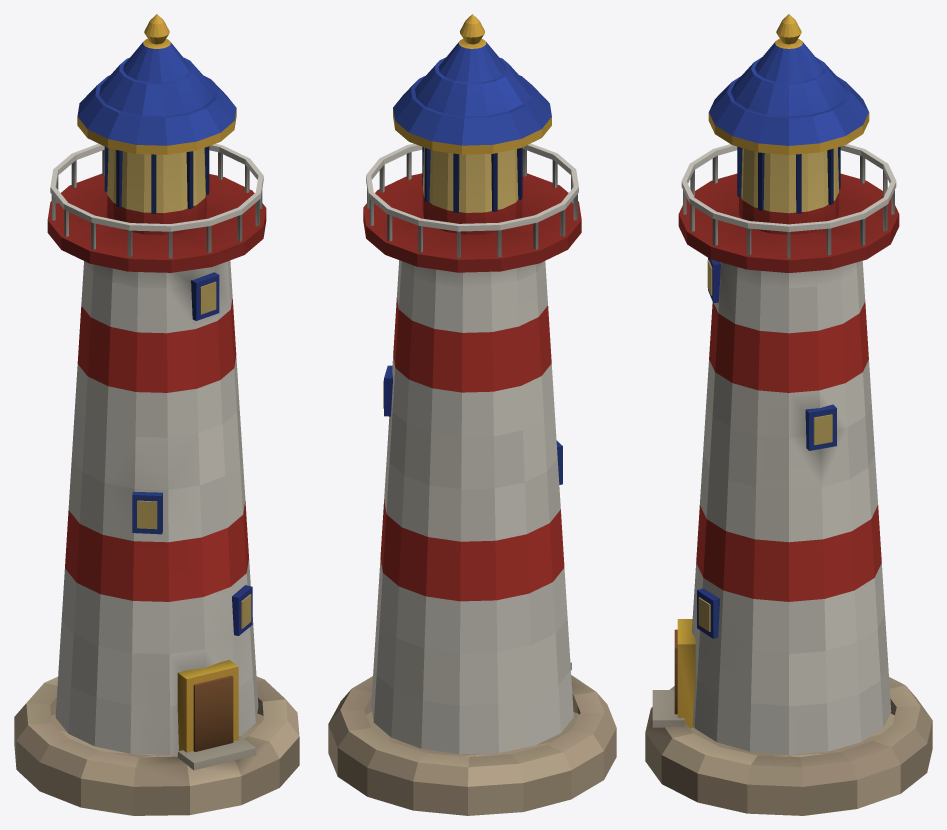
Rendered from Lighthouse.fbx.
3 views of the same model, side by side, from view 1: azimuth 30°, elevation 25°; view 2: azimuth 150°, elevation 25°; view 3: azimuth 270°, elevation 25° (orthographic).
Visible parts, largest first — view 1: Lighthouse; view 2: Lighthouse; view 3: Lighthouse.
Part boxes in pixels (bbox=[...]): Lighthouse: bbox=[14, 14, 299, 815]; Lighthouse: bbox=[328, 14, 616, 815]; Lighthouse: bbox=[645, 14, 932, 815].
Bounding box in the file's own units: 7.16 × 20.4 × 7.16.
